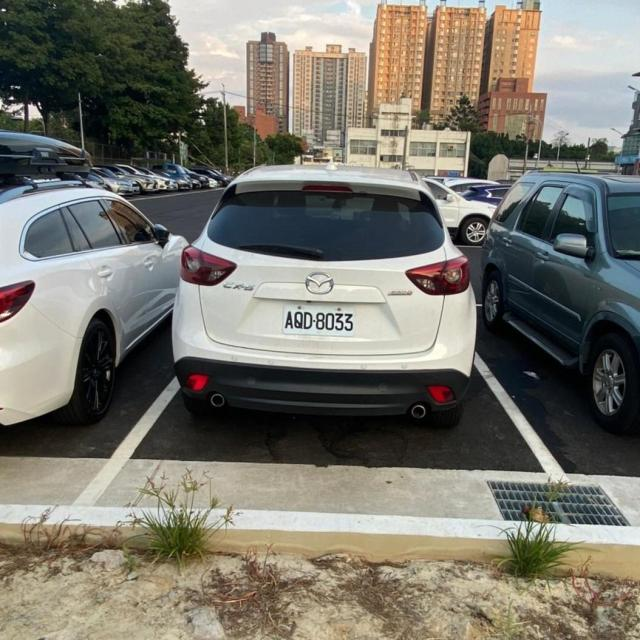W: (277, 299, 359, 339)
